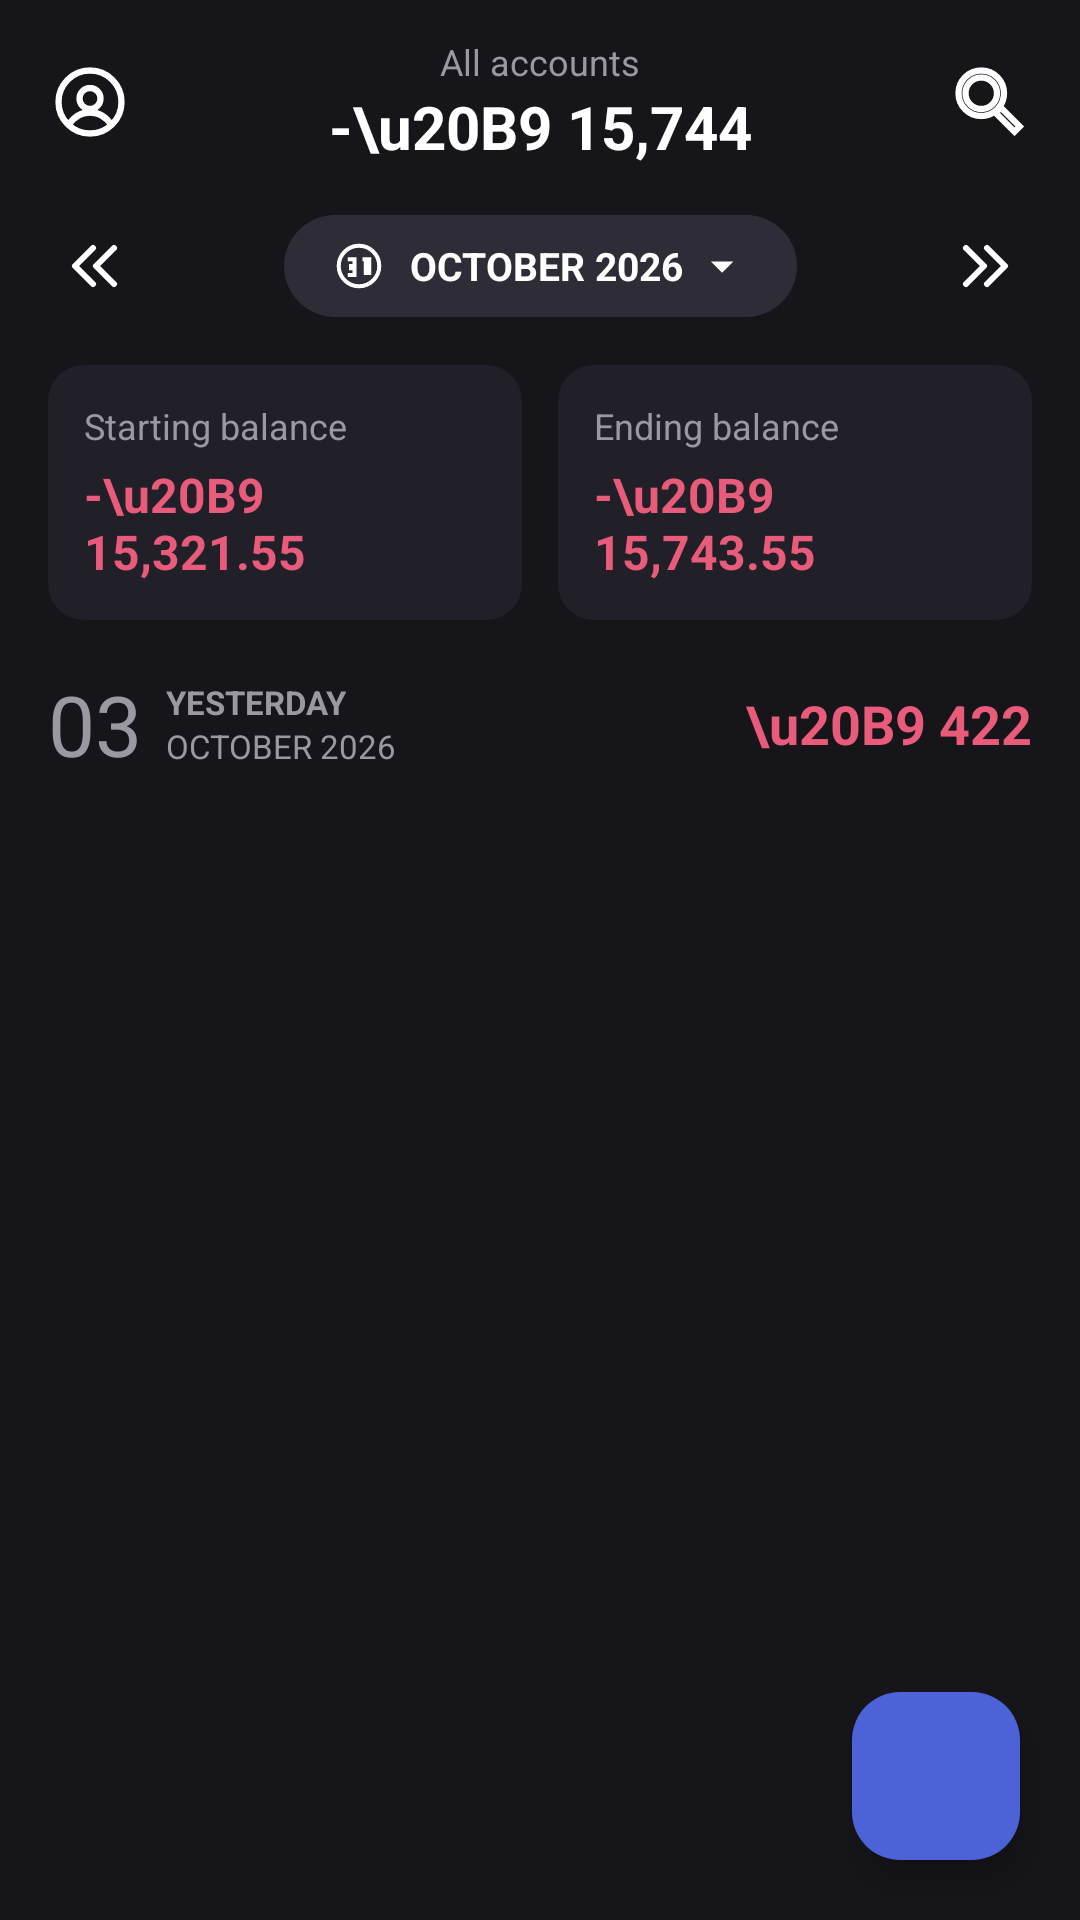

Named icons in this screenshot (1080*1920) and their centers, [x,y]:
Account: [90,102]
Calendar: [359,266]
Next: [985,266]
Prev: [94,266]
Search: [989,101]
